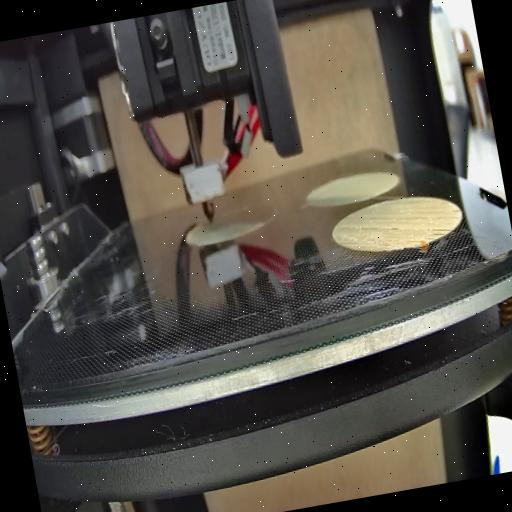under_extrusion: (420, 222, 452, 242), (382, 222, 406, 236), (401, 236, 422, 250), (358, 225, 380, 238), (340, 238, 360, 252), (378, 238, 396, 252), (448, 206, 462, 217)
